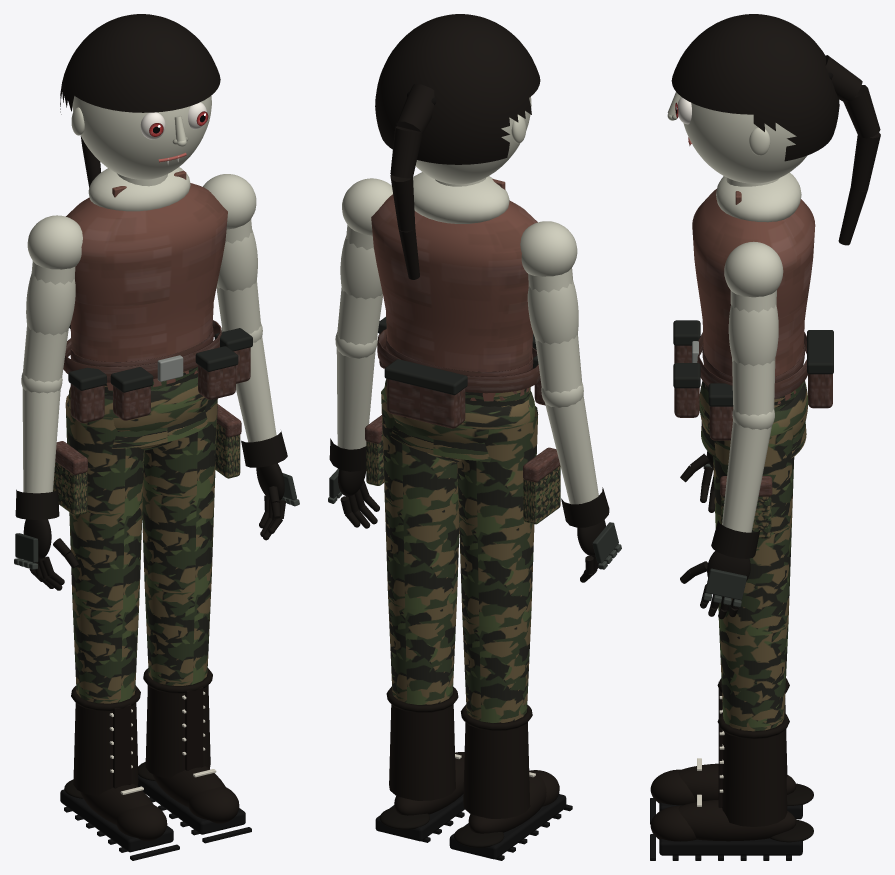
File: 04-infecte-aux-crocs.glb
3 views of the same model, side by side, from view 1: azimuth 30°, elevation 25°; view 2: azimuth 150°, elevation 25°; view 3: azimuth 270°, elevation 25° (orthographic). The views are drawn at different scales.
Size of what is drawn, in the model's own units: 0.6344 by 1.78 by 0.4587.
Materials: 27 (5 with a texture image).
